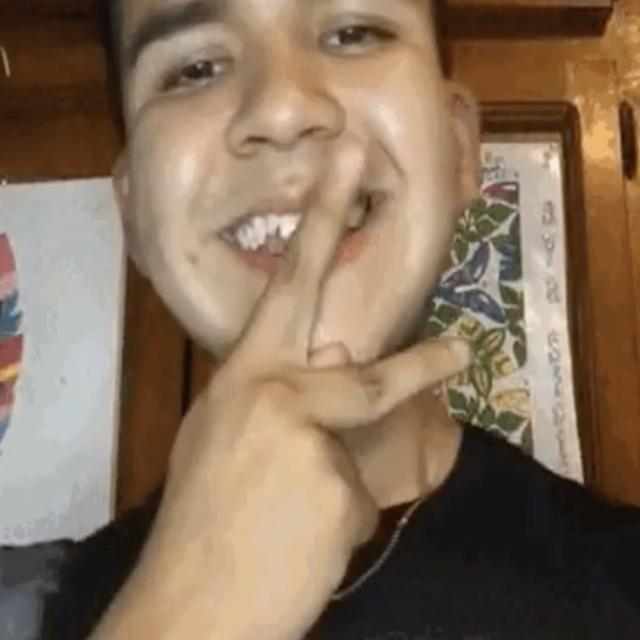PAPA: (149, 136, 492, 614)
